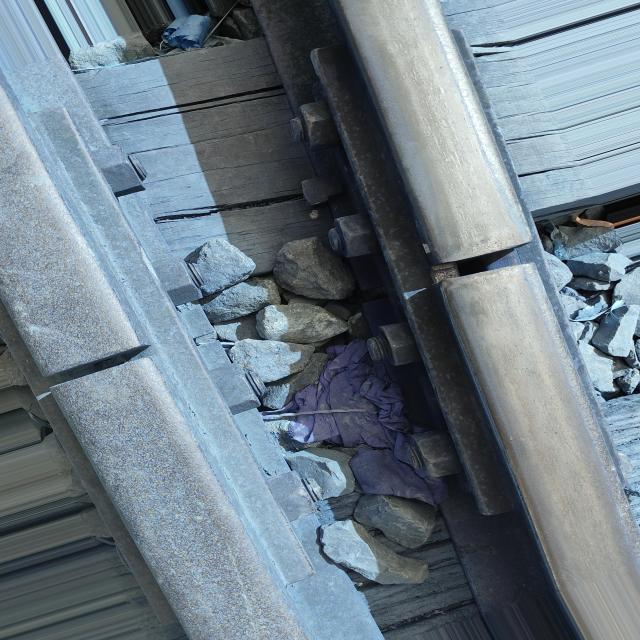crack: (406, 222, 573, 306)
